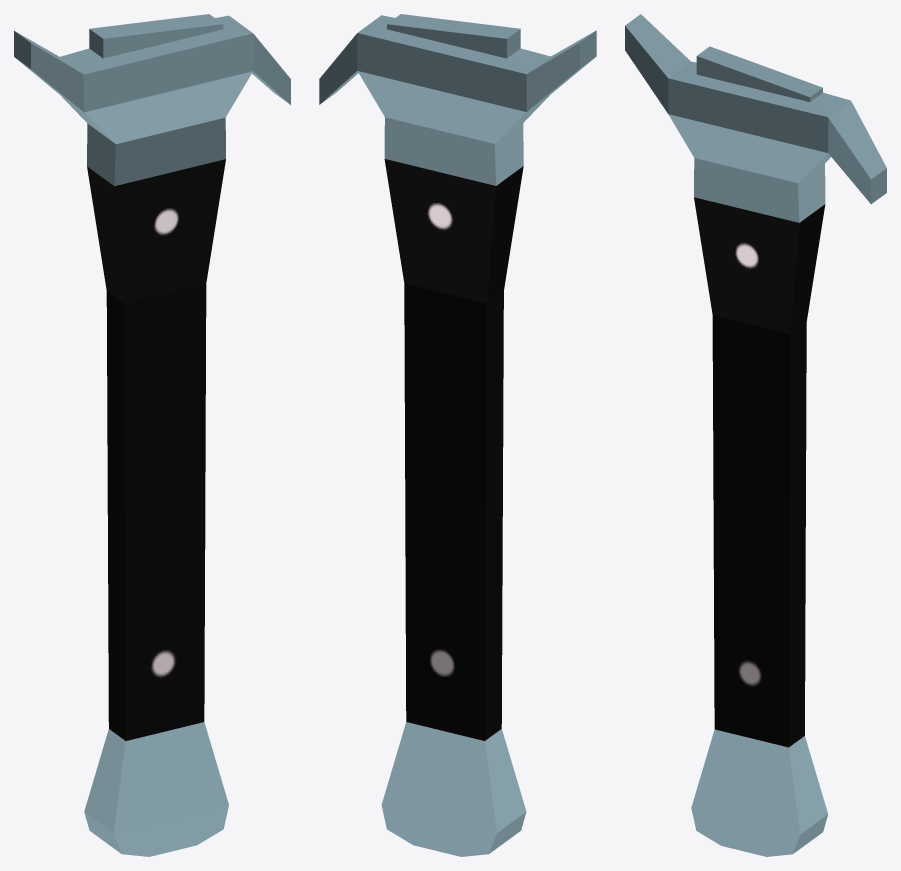
Rendered from SwitchBlade-Blade in.obj.
3 views of the same model, side by side, from view 1: azimuth 30°, elevation 25°; view 2: azimuth 150°, elevation 25°; view 3: azimuth 330°, elevation 25° (orthographic). The views are drawn at different scales.
Parts seen in each view (by area): view 1: Cube; view 2: Cube; view 3: Cube.
Part boxes in pixels (x1,y1,x2,y2): Cube: [14, 14, 290, 856]; Cube: [319, 14, 596, 856]; Cube: [625, 14, 886, 856].
Bounding box in the file's own units: 0.0373 × 0.1142 × 0.00827.
Materials: 3 (1 with a texture image).
